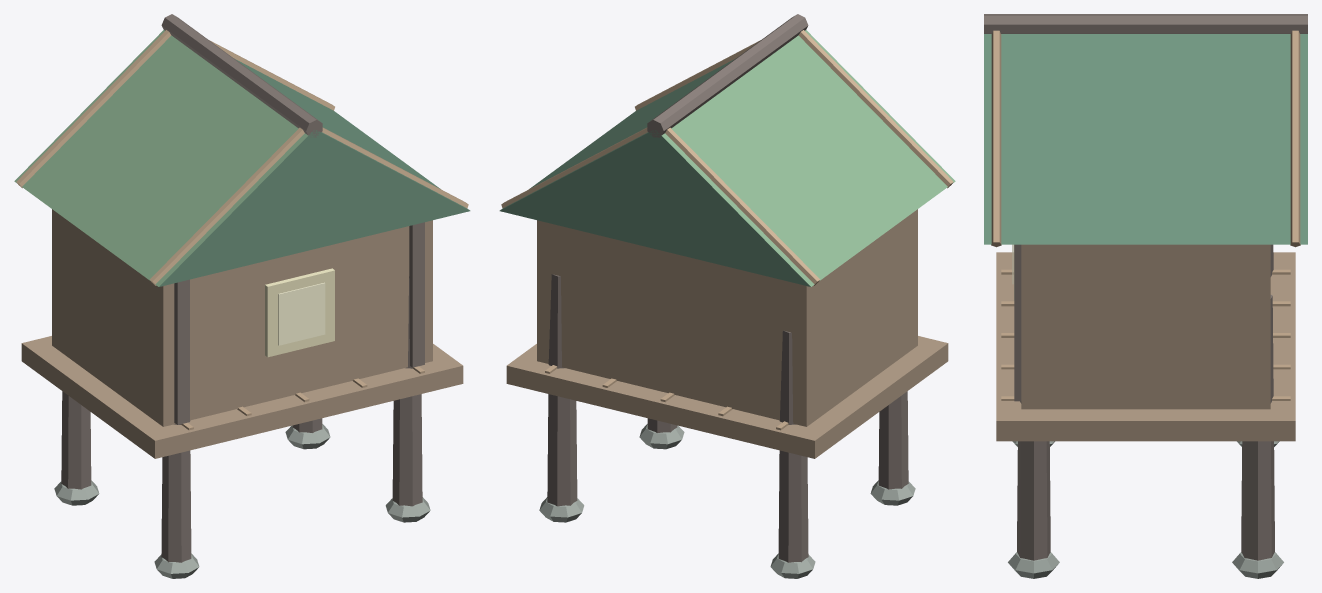
File: cabana_pilotes.glb
3 views of the same model, side by side, from view 1: azimuth 30°, elevation 25°; view 2: azimuth 150°, elevation 25°; view 3: azimuth 270°, elevation 25° (orthographic). The views are drawn at different scales.
Visible parts, largest first — view 1: cabana_pilotes; view 2: cabana_pilotes; view 3: cabana_pilotes.
Boxes of the visible parts, x1=… form: cabana_pilotes: x1=14, y1=14, x2=470, y2=578; cabana_pilotes: x1=499, y1=14, x2=955, y2=578; cabana_pilotes: x1=984, y1=14, x2=1307, y2=578.
Size of the model in its own units: 3.28 by 4.4 by 2.6.
